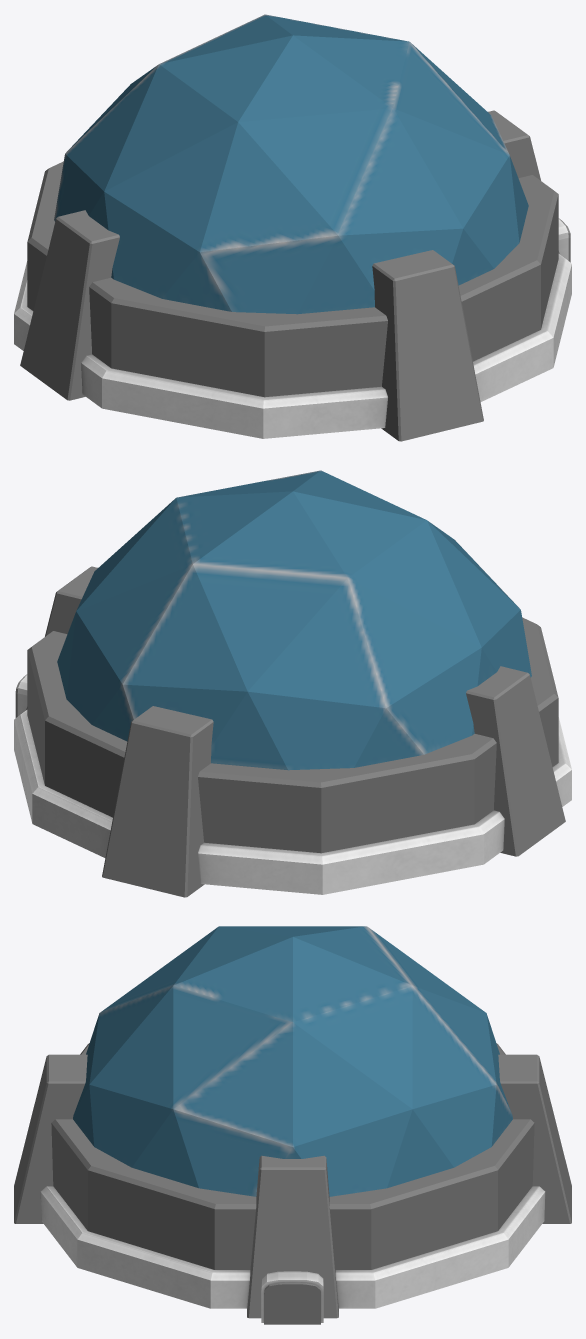
File: large_low_poly_habitat_dome.glb
The picture shows the model from 3 angles, top to bottom: view 1: azimuth 30°, elevation 25°; view 2: azimuth 150°, elevation 25°; view 3: azimuth 270°, elevation 25°; orthographic projection. The views are drawn at different scales.
Parts seen in each view (by area): view 1: Icosphere.001, Cylinder, Cube.002, Cube.001; view 2: Icosphere.001, Cylinder, Cube.002, Cube.001; view 3: Icosphere.001, Cylinder, Cube.002, Cube.001, Cube.003, Cube.004.
Part boxes in pixels (bbox=[...]): Icosphere.001: bbox=[54, 14, 528, 314]; Cylinder: bbox=[14, 161, 571, 438]; Cube.002: bbox=[372, 250, 483, 441]; Cube.001: bbox=[20, 110, 559, 400]; Icosphere.001: bbox=[57, 470, 531, 770]; Cylinder: bbox=[14, 617, 571, 894]; Cube.002: bbox=[102, 706, 213, 897]; Cube.001: bbox=[26, 566, 565, 856]; Icosphere.001: bbox=[73, 926, 512, 1196]; Cylinder: bbox=[40, 1043, 545, 1308]; Cube.002: bbox=[14, 1054, 571, 1223]; Cube.001: bbox=[247, 1155, 338, 1318]; Cube.003: bbox=[264, 1282, 320, 1324]; Cube.004: bbox=[261, 1271, 323, 1322].
Size of the model in its own units: 7.28 by 3.91 by 7.36.
1 material, 1 textured.
